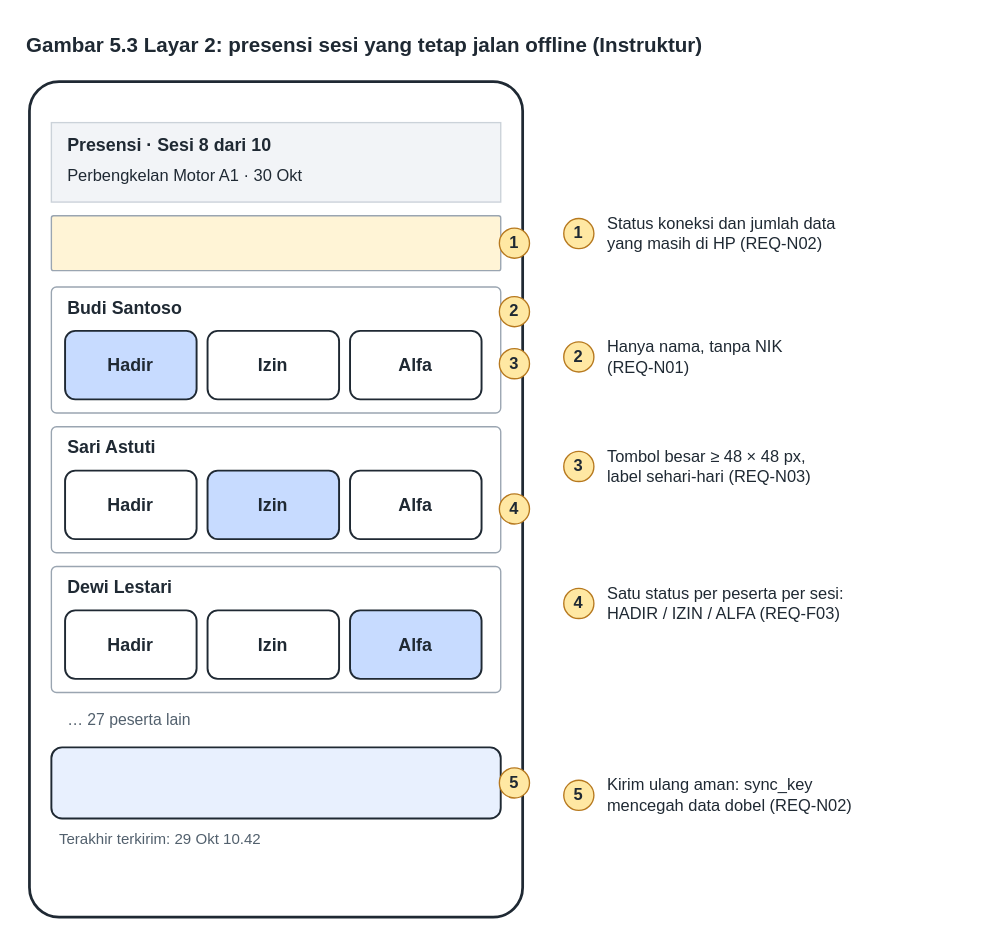
This 997x941 diagram has some shape labels left out. The shapes that lost their labels are listed below. From the top down, each one's centre as x and y in pixels, then its label:
At (275,242): "● Offline · 6 data belum terkirim tersimpan di HP ini".
At (275,782): "Sinkronkan (6)".
